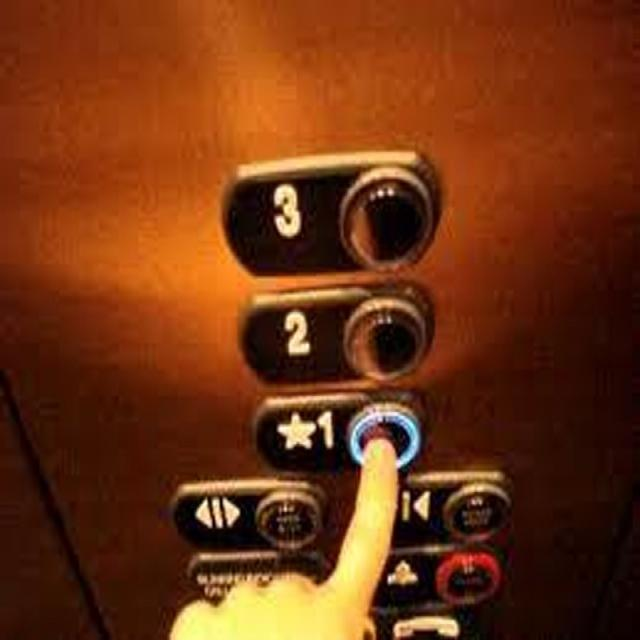2: (232, 277, 436, 388)
3: (221, 138, 446, 274)
alarm: (363, 535, 508, 613)
open: (170, 476, 333, 549)
s1: (251, 388, 432, 473)
